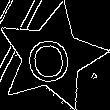O_N: (27, 29, 76, 84)
